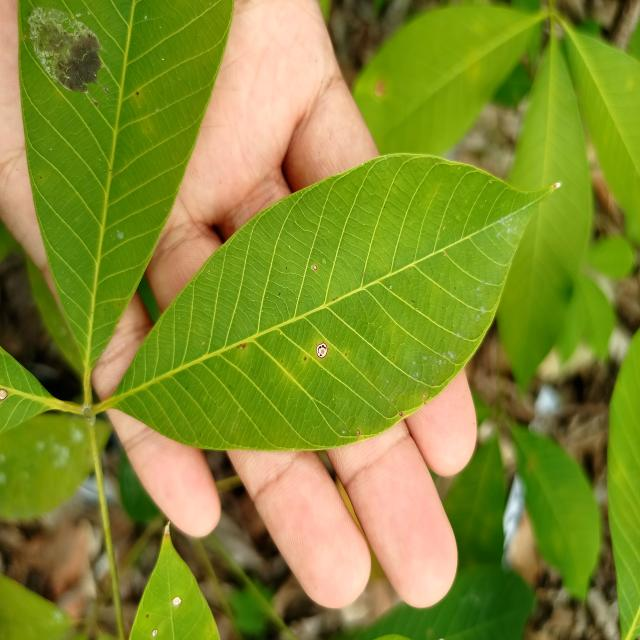Colletotrichum: (316, 342, 328, 358), (0, 388, 7, 400), (314, 265, 317, 271), (399, 412, 403, 416), (357, 430, 360, 434)
